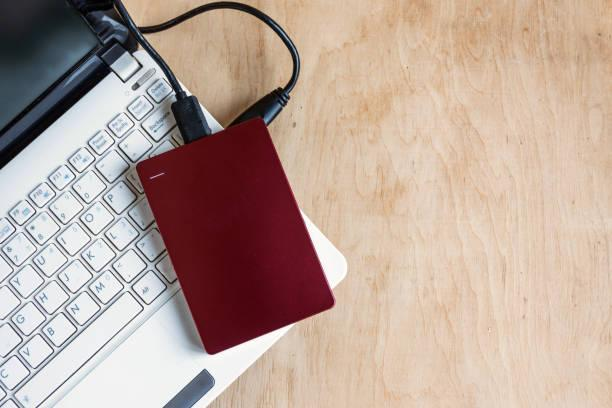HDD: (135, 118, 335, 356)
